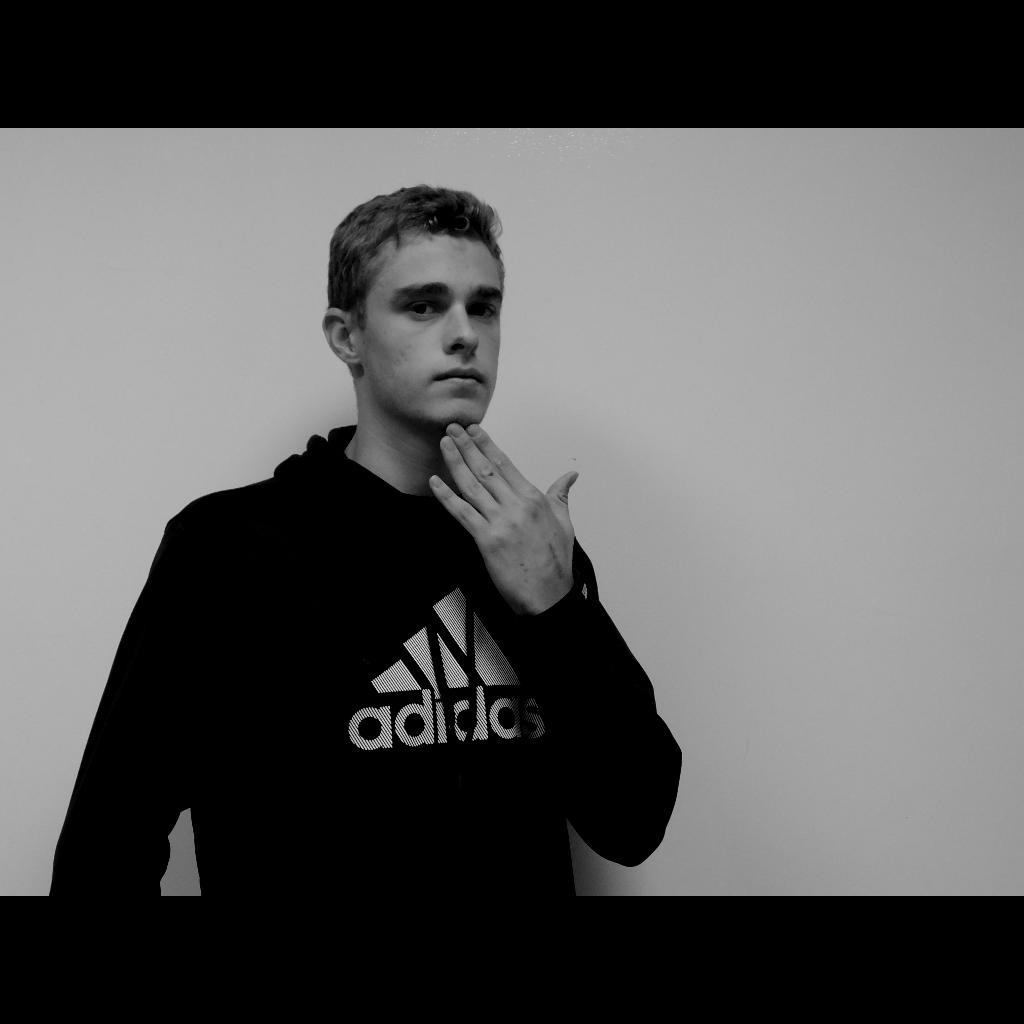thank-you: (432, 422, 578, 604)
